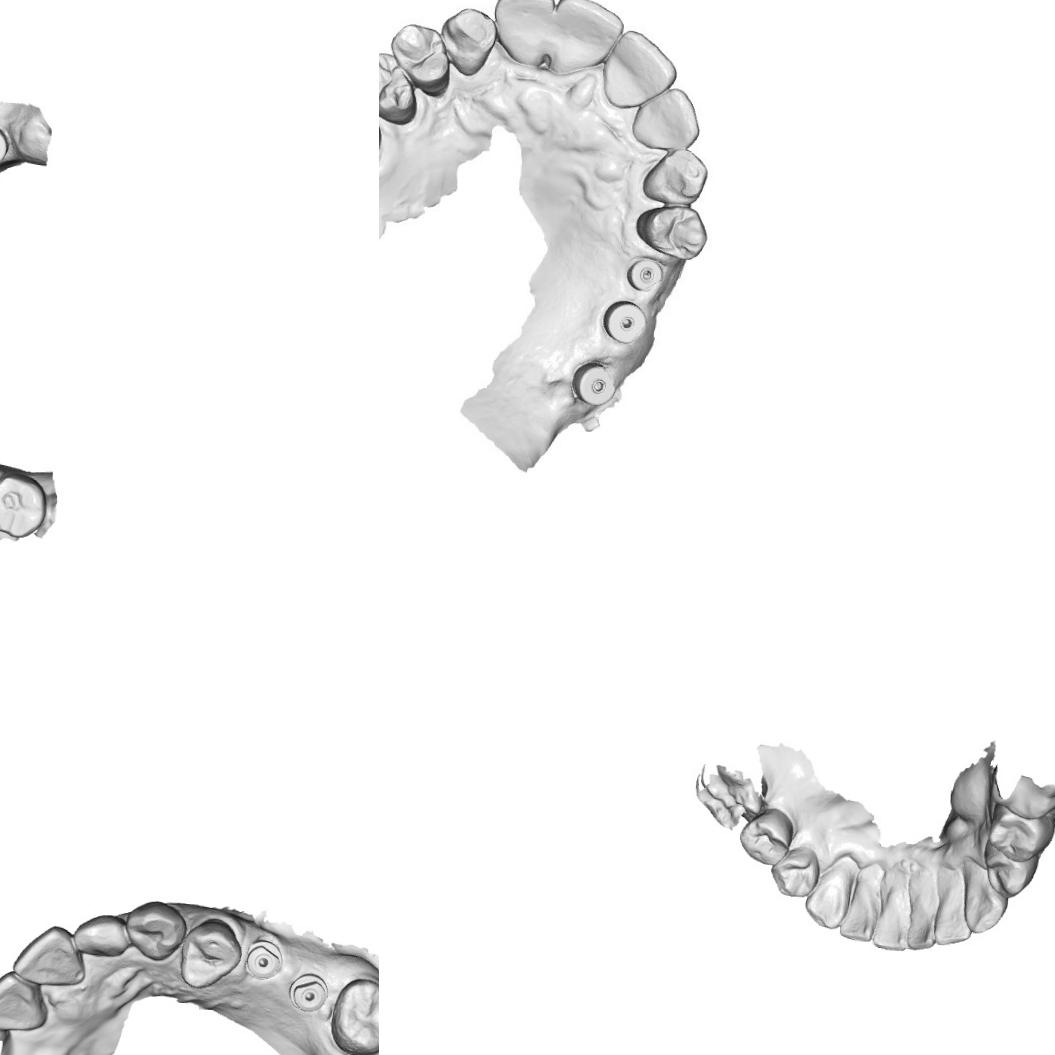canine: (637, 146, 713, 208), (122, 897, 187, 968), (440, 4, 498, 81), (962, 859, 1010, 936), (804, 857, 854, 930)
implant: (572, 358, 620, 408), (628, 256, 680, 302), (603, 298, 646, 344), (242, 938, 286, 982), (287, 970, 329, 1016)
incisor: (606, 27, 680, 104), (10, 922, 88, 990), (554, 0, 621, 72), (631, 85, 705, 149), (870, 861, 916, 953), (491, 0, 555, 61), (932, 862, 975, 947), (0, 969, 50, 1034), (838, 863, 878, 943), (905, 861, 940, 950), (71, 910, 130, 960)
molar: (328, 975, 379, 1055), (0, 472, 47, 540)
premolar: (176, 914, 245, 991), (392, 20, 454, 102), (985, 803, 1055, 864), (635, 203, 707, 259), (982, 838, 1040, 900), (737, 807, 794, 868), (768, 844, 822, 900), (379, 51, 417, 123)
